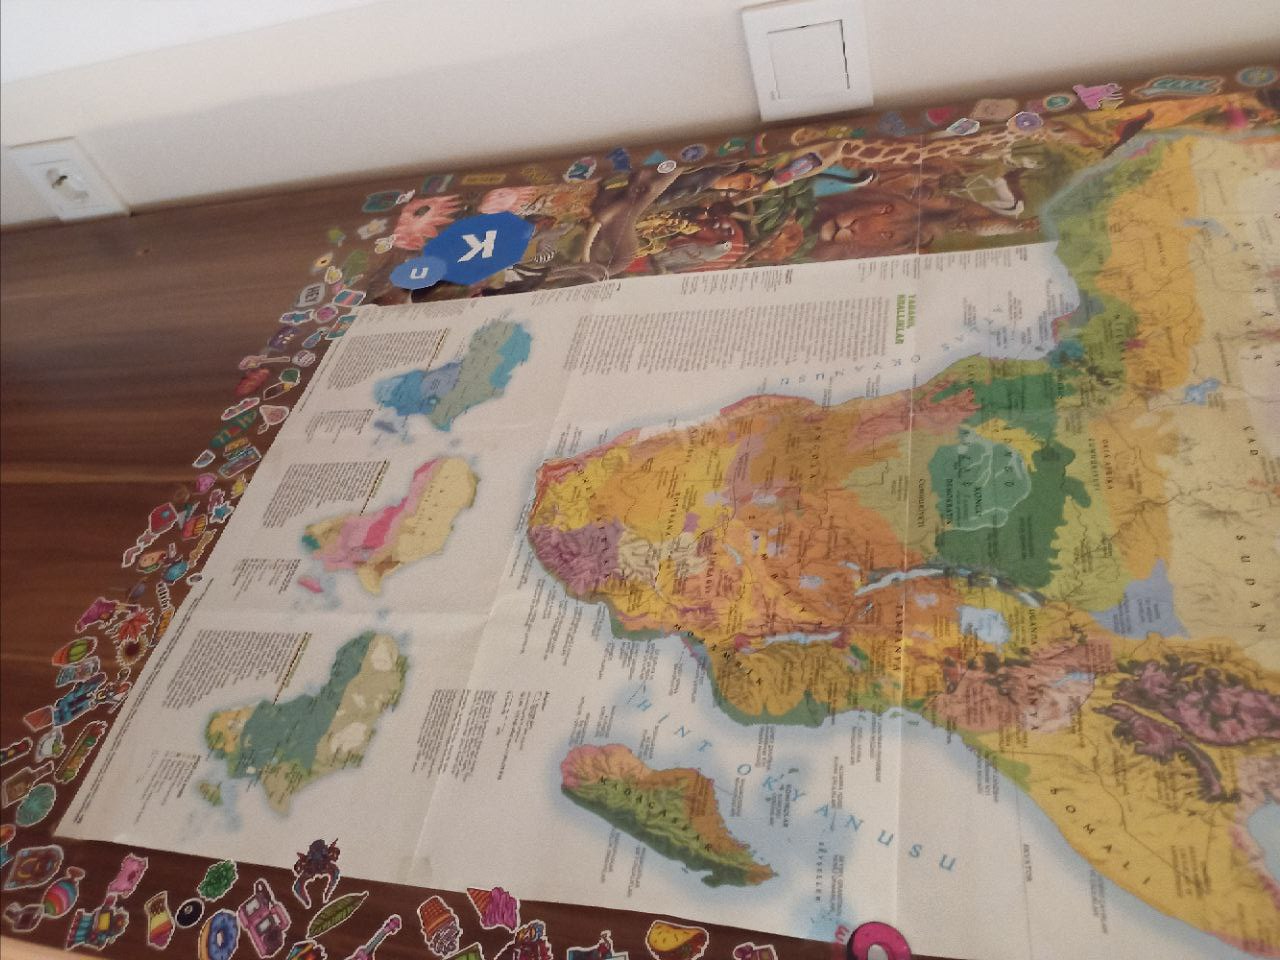knative: (389, 211, 533, 292)
